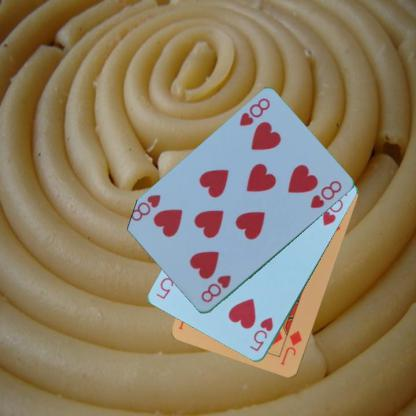5h: (247, 315, 274, 353)
8h: (237, 95, 271, 128), (198, 272, 232, 304)
Jd: (278, 328, 303, 367)
